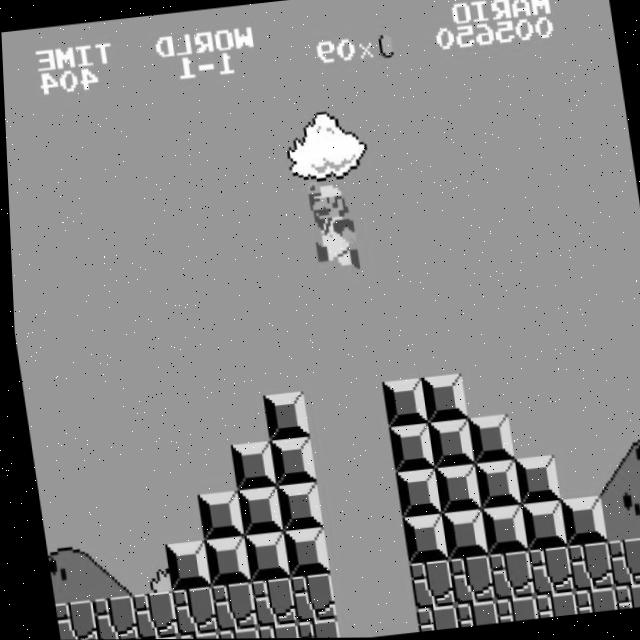17- undestructible_block: (521, 546, 569, 597), (442, 555, 490, 606), (561, 542, 609, 592), (482, 551, 530, 601), (244, 577, 292, 627), (204, 582, 252, 632), (164, 586, 212, 636), (403, 560, 450, 610), (284, 573, 331, 623), (125, 590, 172, 639), (85, 594, 132, 640), (601, 537, 640, 588), (49, 599, 92, 640), (449, 600, 493, 628), (568, 587, 612, 614), (528, 592, 572, 619), (488, 596, 532, 623), (409, 605, 453, 632), (607, 583, 640, 610), (290, 618, 333, 638), (251, 622, 294, 639), (211, 627, 254, 639), (171, 631, 214, 639), (640, 533, 640, 583)
4- fire_mario: (304, 175, 360, 273)
9- hard_block: (515, 500, 563, 551), (429, 464, 477, 515), (436, 509, 484, 560), (158, 540, 206, 591), (554, 496, 602, 546), (469, 460, 517, 510), (475, 505, 523, 555), (377, 378, 425, 428), (390, 469, 438, 519), (396, 514, 444, 564), (258, 391, 306, 441), (271, 482, 319, 532), (277, 527, 325, 577), (231, 486, 279, 536), (509, 455, 556, 506), (417, 373, 464, 424), (238, 531, 285, 582), (192, 491, 239, 541), (198, 536, 245, 586), (463, 415, 510, 464), (384, 423, 431, 472), (265, 437, 312, 486), (225, 441, 272, 490), (424, 419, 470, 468)
